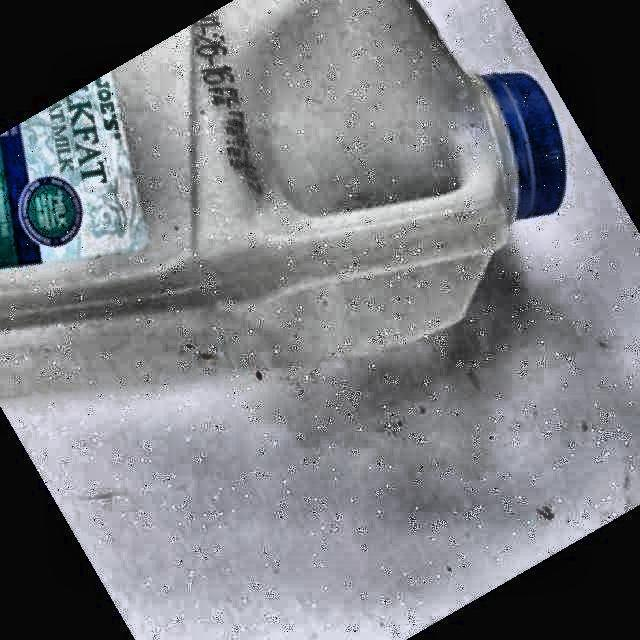plastic: (0, 0, 565, 399)
